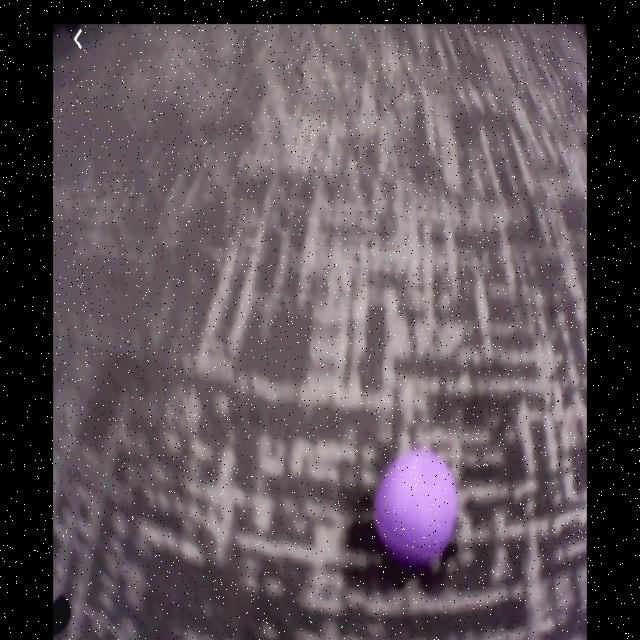ball: (377, 449, 458, 564)
